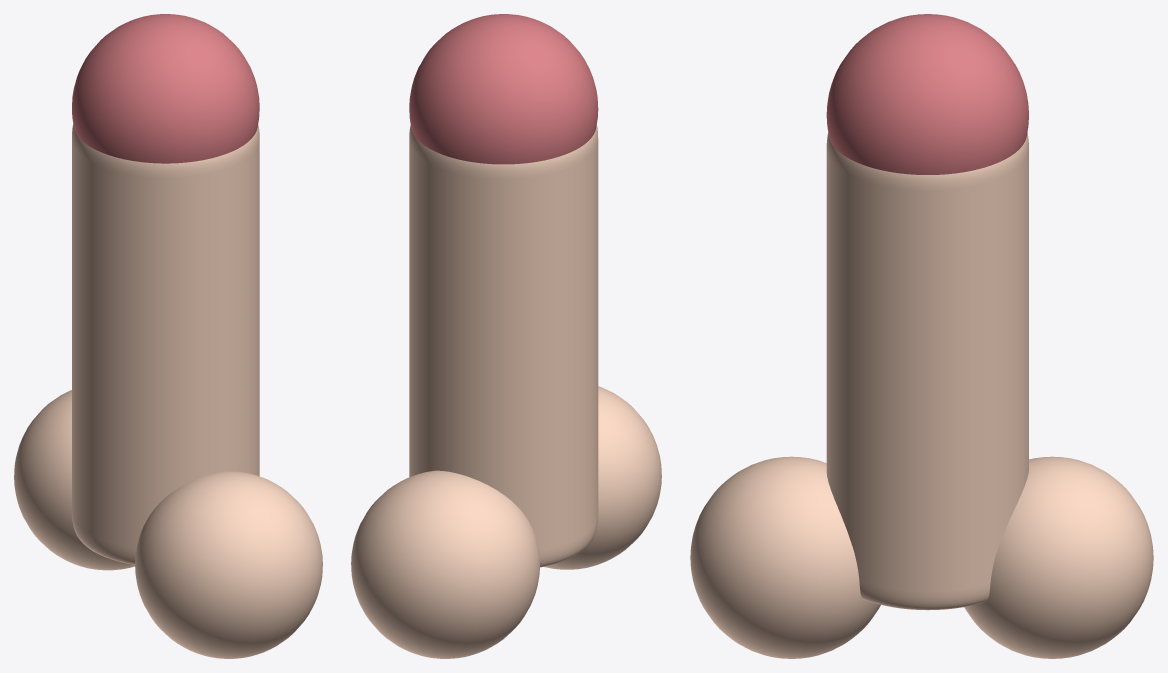
The model's file is dick.glb.
3 views of the same model, side by side, from view 1: azimuth 30°, elevation 25°; view 2: azimuth 150°, elevation 25°; view 3: azimuth 270°, elevation 25° (orthographic). The views are drawn at different scales.
Visible parts, largest first — view 1: Rounded Cylinder, Sphere (×3); view 2: Rounded Cylinder, Sphere (×3); view 3: Rounded Cylinder, Sphere (×3).
Boxes of the visible parts, x1,y1,x2,y2 form: Rounded Cylinder: (72, 124, 259, 564); Sphere (×3): (14, 14, 322, 658); Rounded Cylinder: (409, 125, 598, 567); Sphere (×3): (351, 14, 661, 658); Rounded Cylinder: (826, 132, 1028, 610); Sphere (×3): (690, 14, 1153, 658).
Size of the model in its own units: 1 by 3.41 by 2.29.
